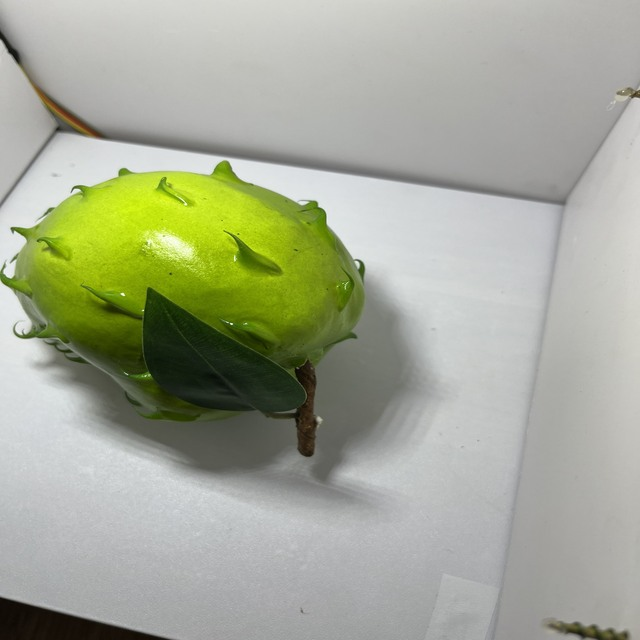Man cau: (0, 154, 375, 430)
